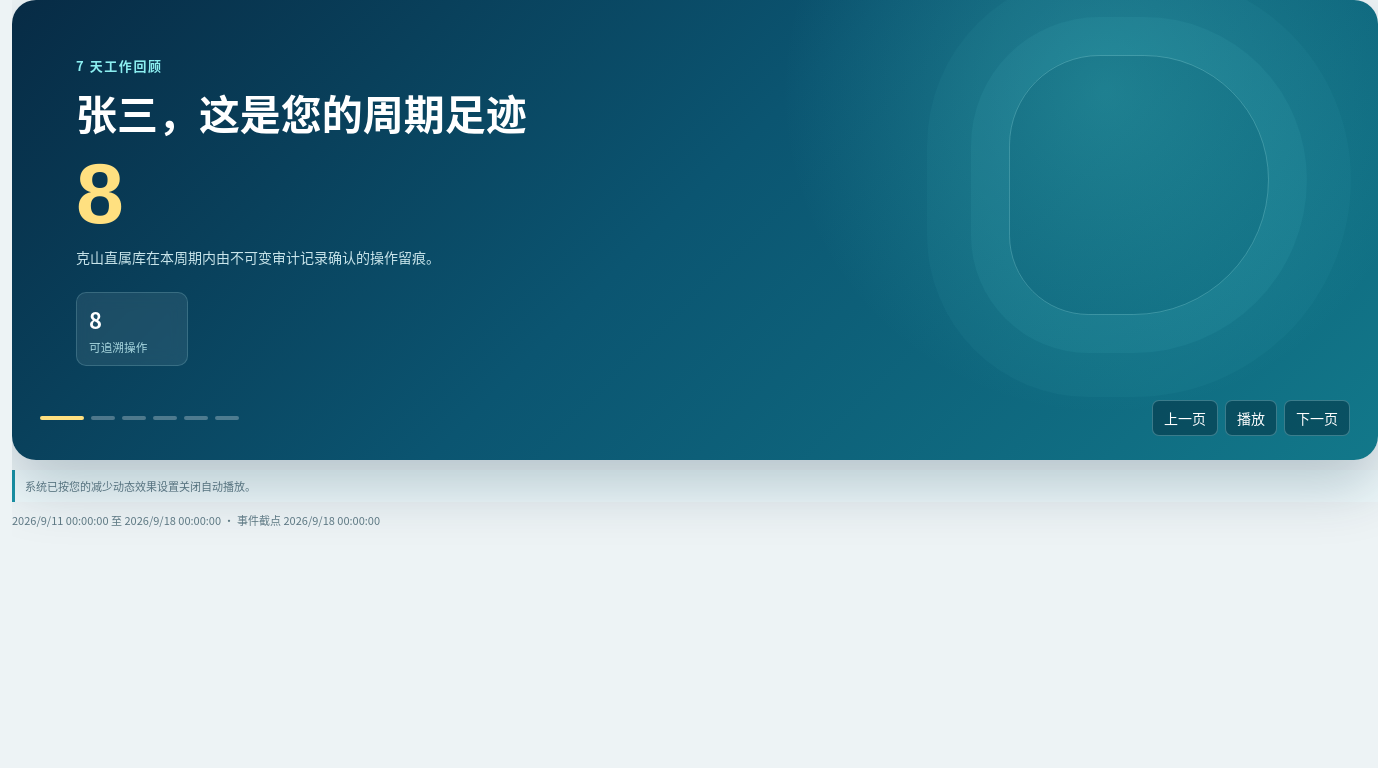
Scenario: ActivityReportStory › keeps manual navigation available when reduced motion is requested
Expected: the heading "张三，这是您的周期足迹" is shown, [76,82,527,142]
Expected: the text "系统已按您的减少动态效果设置关闭自动播放。" is shown, [12,470,1377,502]
Click the button "下一页". click: (1317, 418)
box: [1284,400,1350,436]
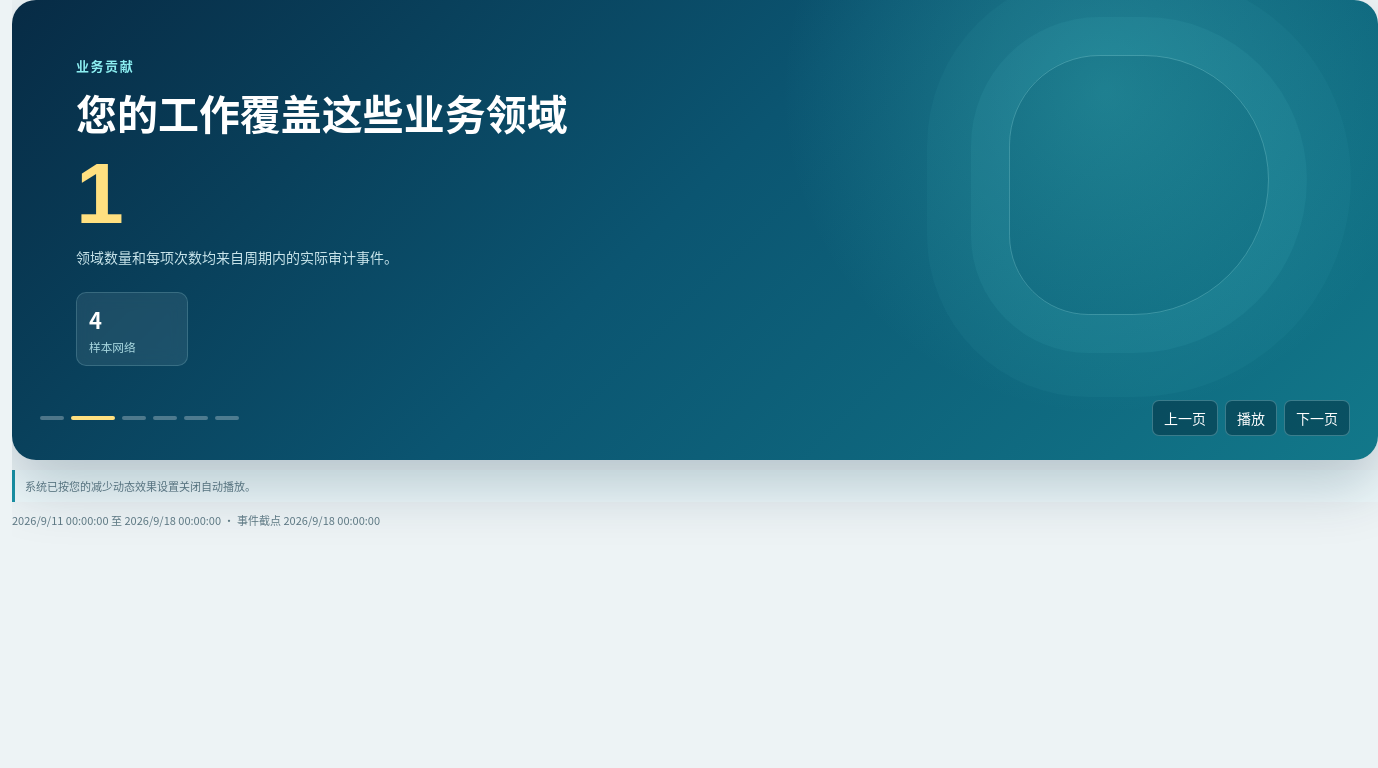
Expected: the heading "您的工作覆盖这些业务领域" is shown, [76,88,648,136]
